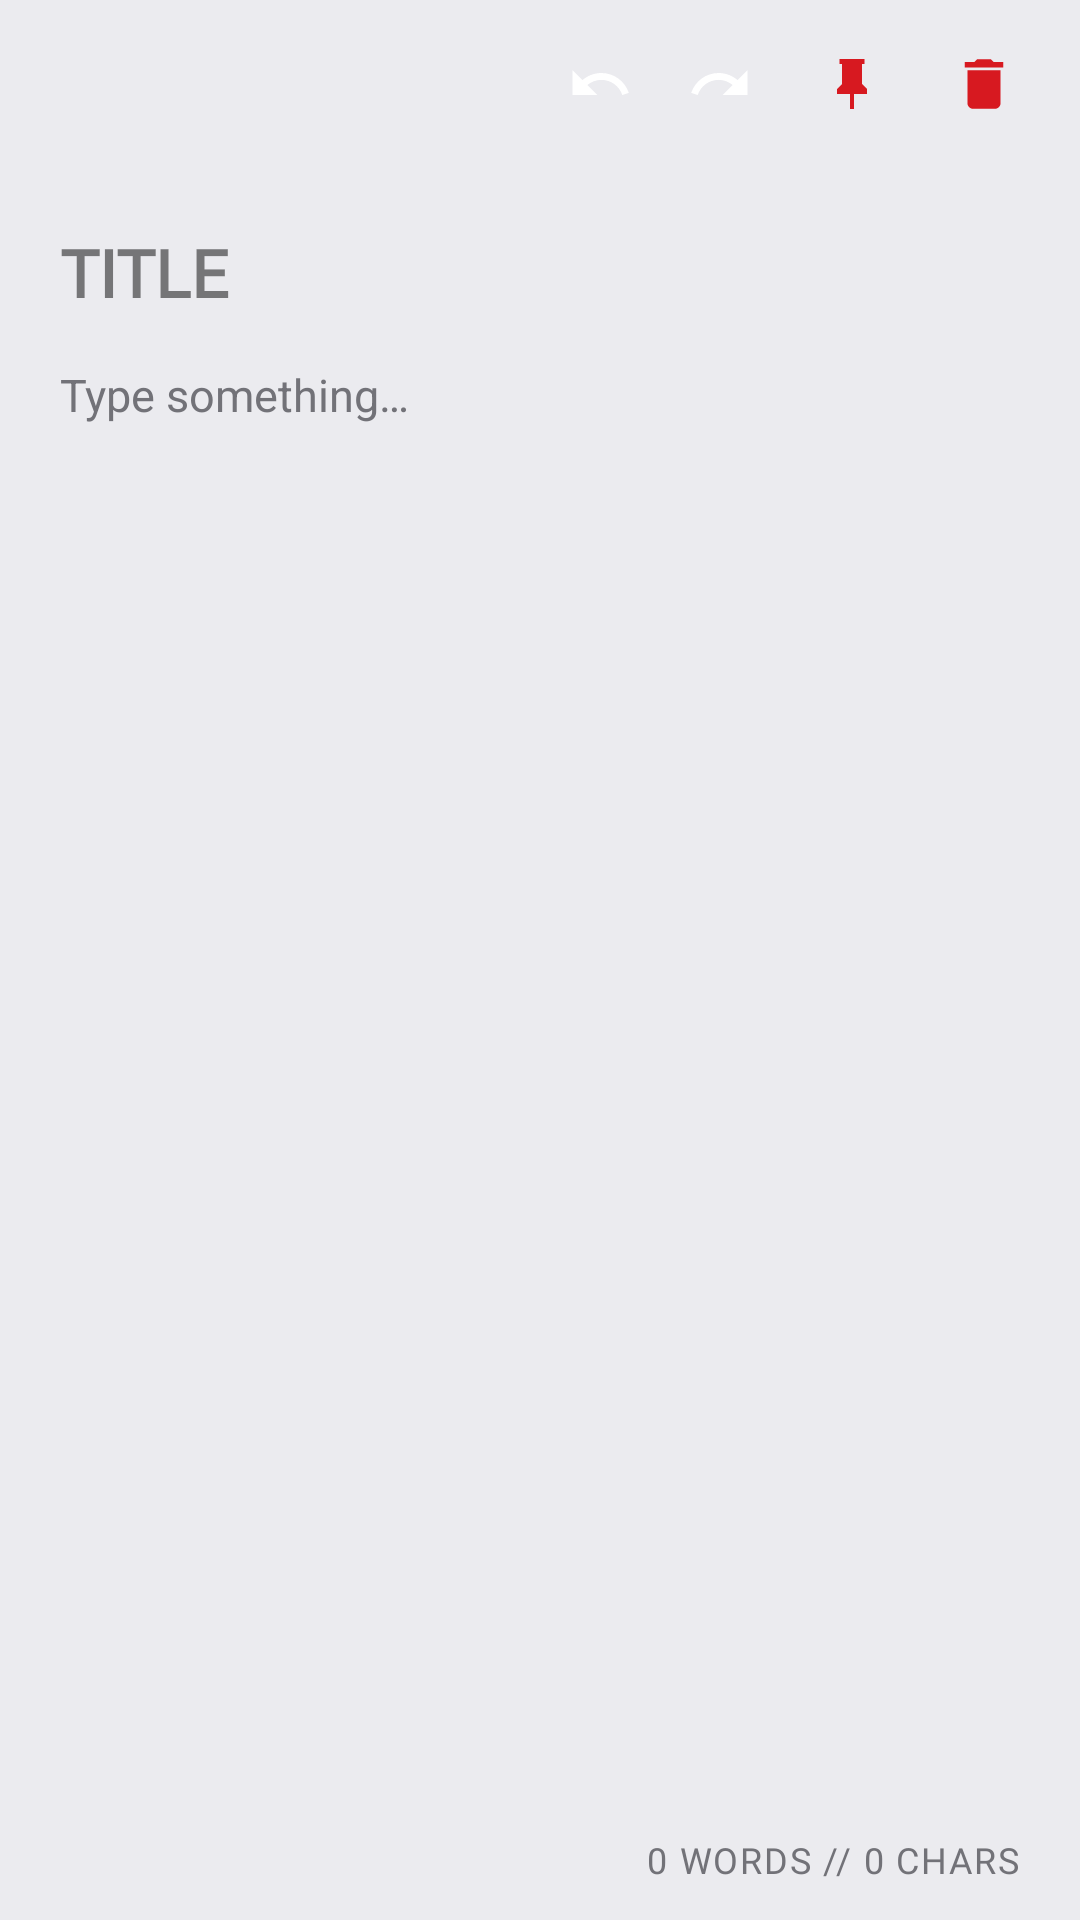

Where icons sit on this 1080px x 1920px app screen, as (left=x1, top=y1, right=x2, bottom=y2):
Delete Note: (left=964, top=59, right=1004, bottom=109)
Pin Note: (left=837, top=59, right=867, bottom=109)
